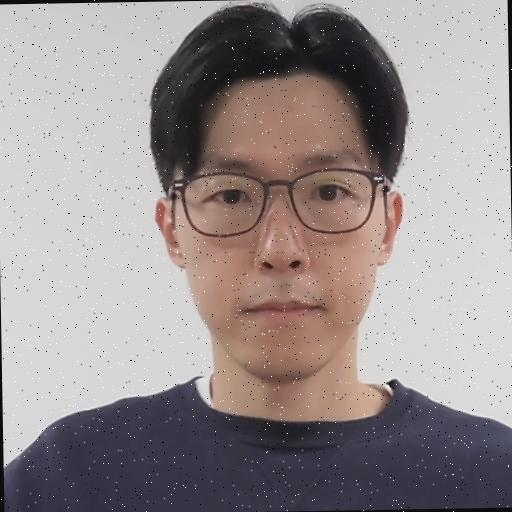no_glasses: (154, 4, 419, 378)
